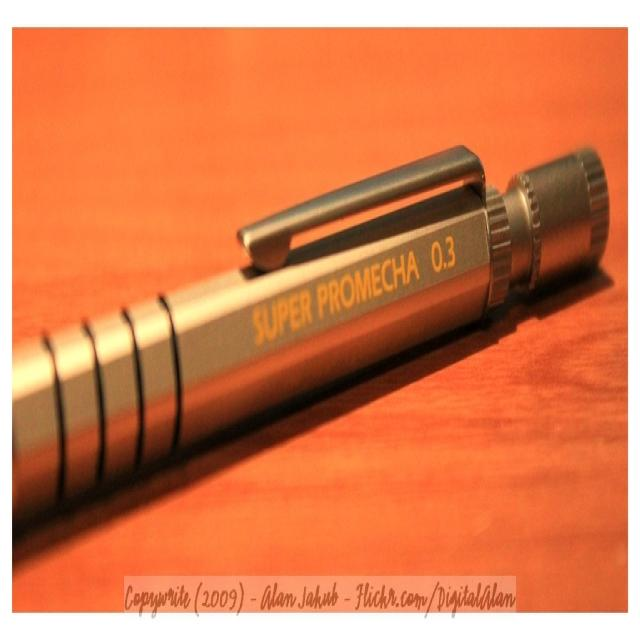pen: (8, 137, 613, 517)
